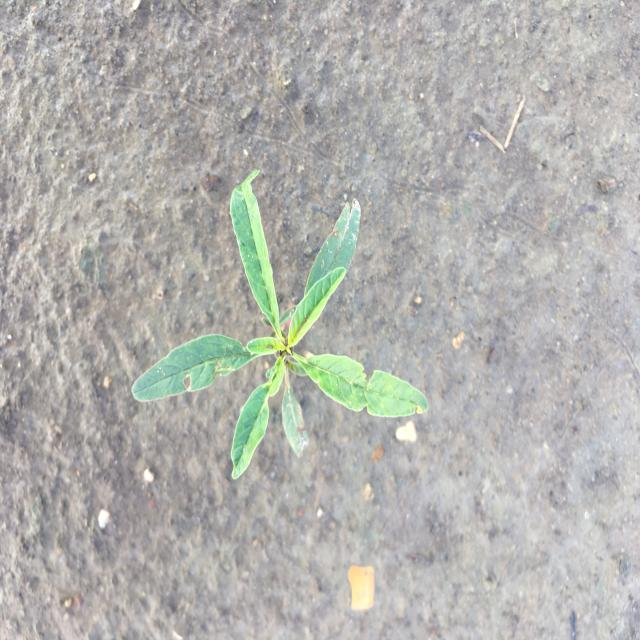Waterhemp: (129, 168, 431, 484)
